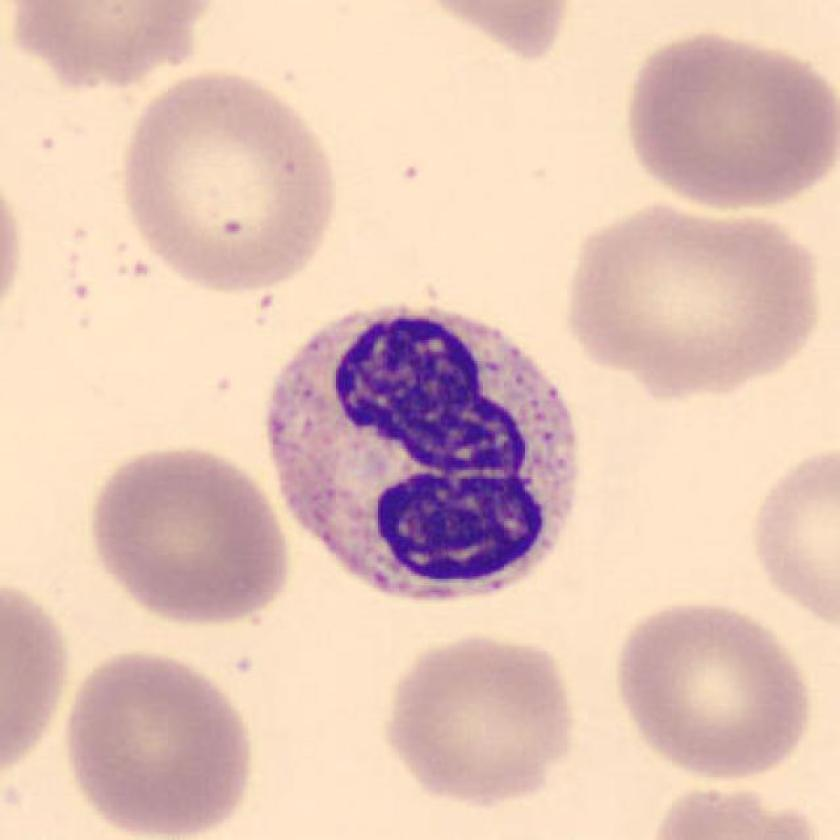neutrophil: (265, 303, 580, 599)
